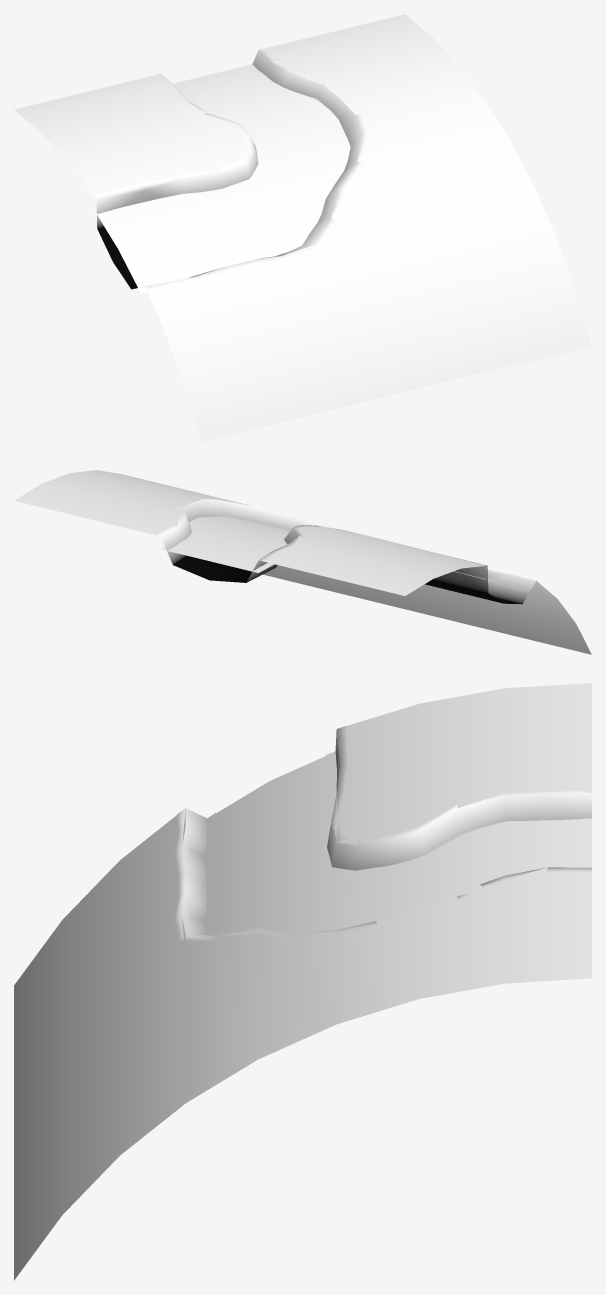
Rendered from grd_Rsw_2.dae.
3 renders of one model, top to bottom at view 1: azimuth 30°, elevation 25°; view 2: azimuth 150°, elevation 25°; view 3: azimuth 270°, elevation 25°, orthographic. The views are drawn at different scales.
Visible parts, largest first — view 1: grass_1_0, river_2_0, cliff_river_0_0, river_edge_3_0; view 2: grass_1_0, cliff_river_0_0, river_2_0, river_edge_3_0; view 3: grass_1_0, river_2_0, cliff_river_0_0, river_edge_3_0.
Boxes of the visible parts, x1,y1,x2,y2 form: grass_1_0: (14,14,591,441); river_2_0: (94,65,350,292); cliff_river_0_0: (93,48,367,292); river_edge_3_0: (94,64,340,293); grass_1_0: (14,470,591,654); cliff_river_0_0: (155,498,538,604); river_2_0: (162,517,531,593); river_edge_3_0: (161,516,530,593); grass_1_0: (14,683,591,1280); river_2_0: (205,752,591,935); cliff_river_0_0: (174,725,591,941); river_edge_3_0: (204,751,591,935).
Bounding box in the file's own units: 512 × 244 × 423.
Materials: 4 (1 with a texture image).
